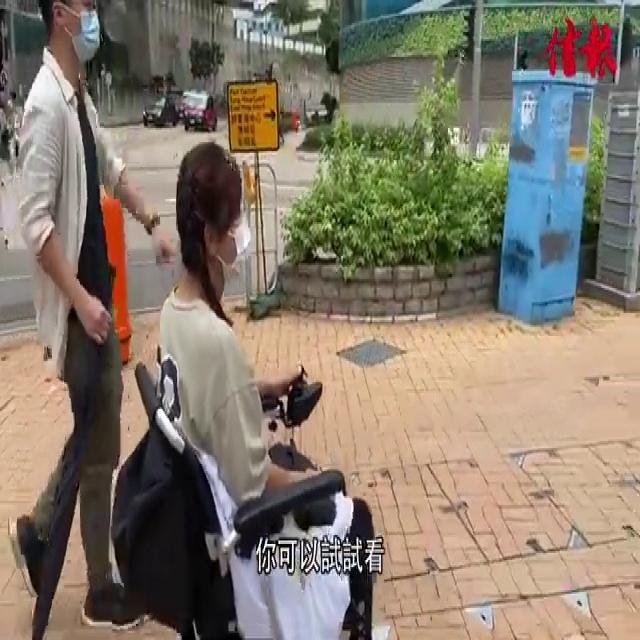wheelchairs: (101, 338, 391, 640)
